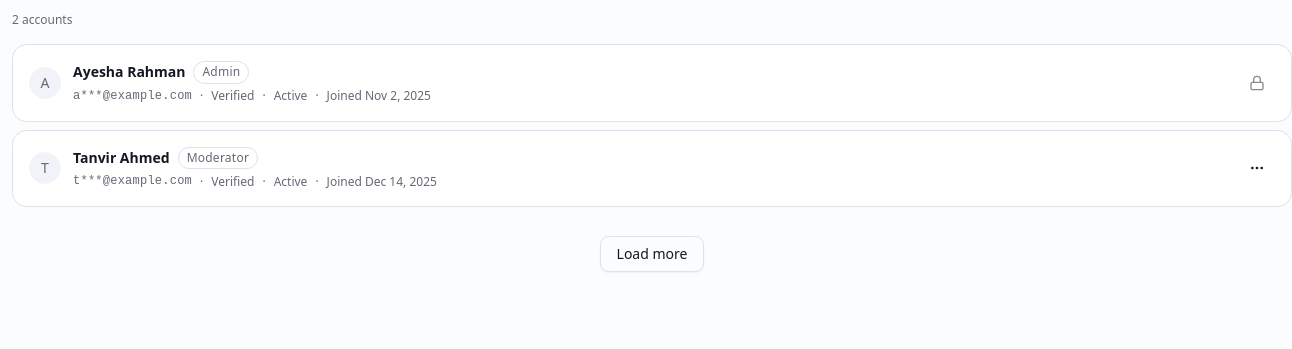
Test: UserList › pages forward and drops an account repeated across pages
Expected: the list is shown, [12, 44, 1291, 207]
Expected: the number of list items is 2, [12, 44, 1291, 122]; [12, 130, 1291, 207]
Click the button "Load more" at (652, 254), box [600, 236, 704, 272]
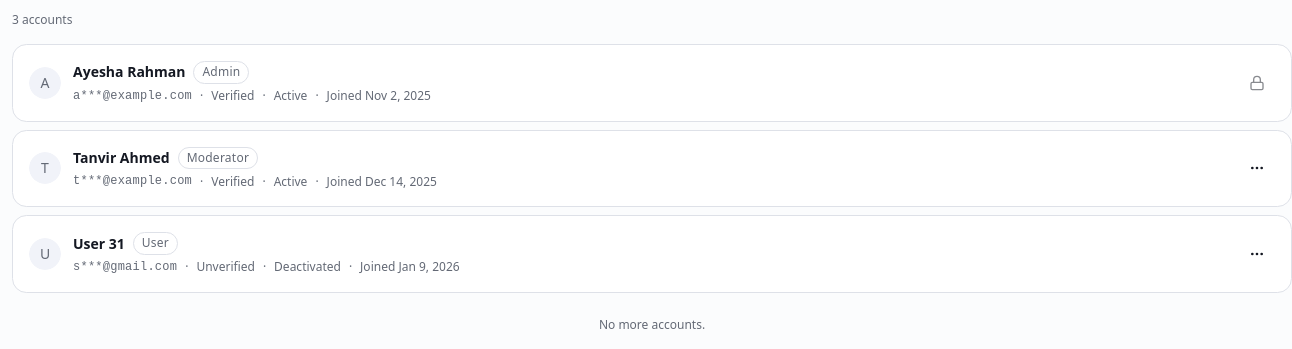
Now the number of list items is 3, box [12, 44, 1291, 122]; [12, 130, 1291, 207]; [12, 215, 1291, 293]
Now the text "3 accounts" is shown, box [12, 11, 72, 28]
Now the text "Tanvir Ahmed" is shown once, box [73, 148, 170, 168]
